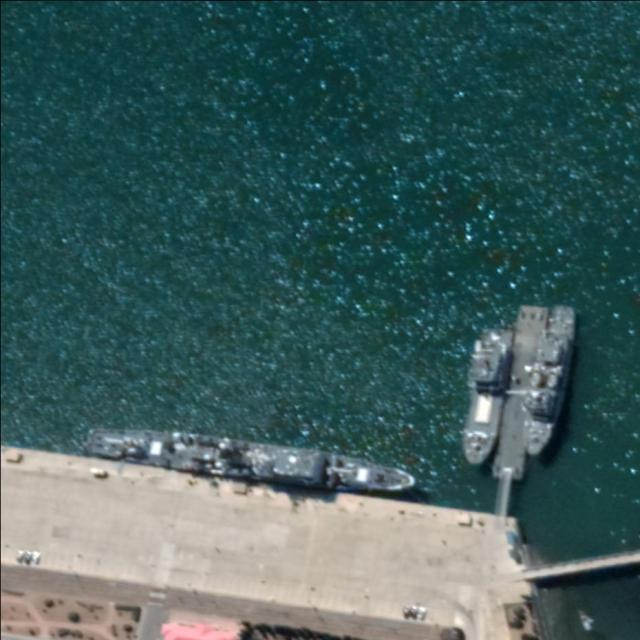Landing: (457, 323, 516, 468)
Other Warship: (86, 416, 416, 503), (522, 305, 580, 459)
